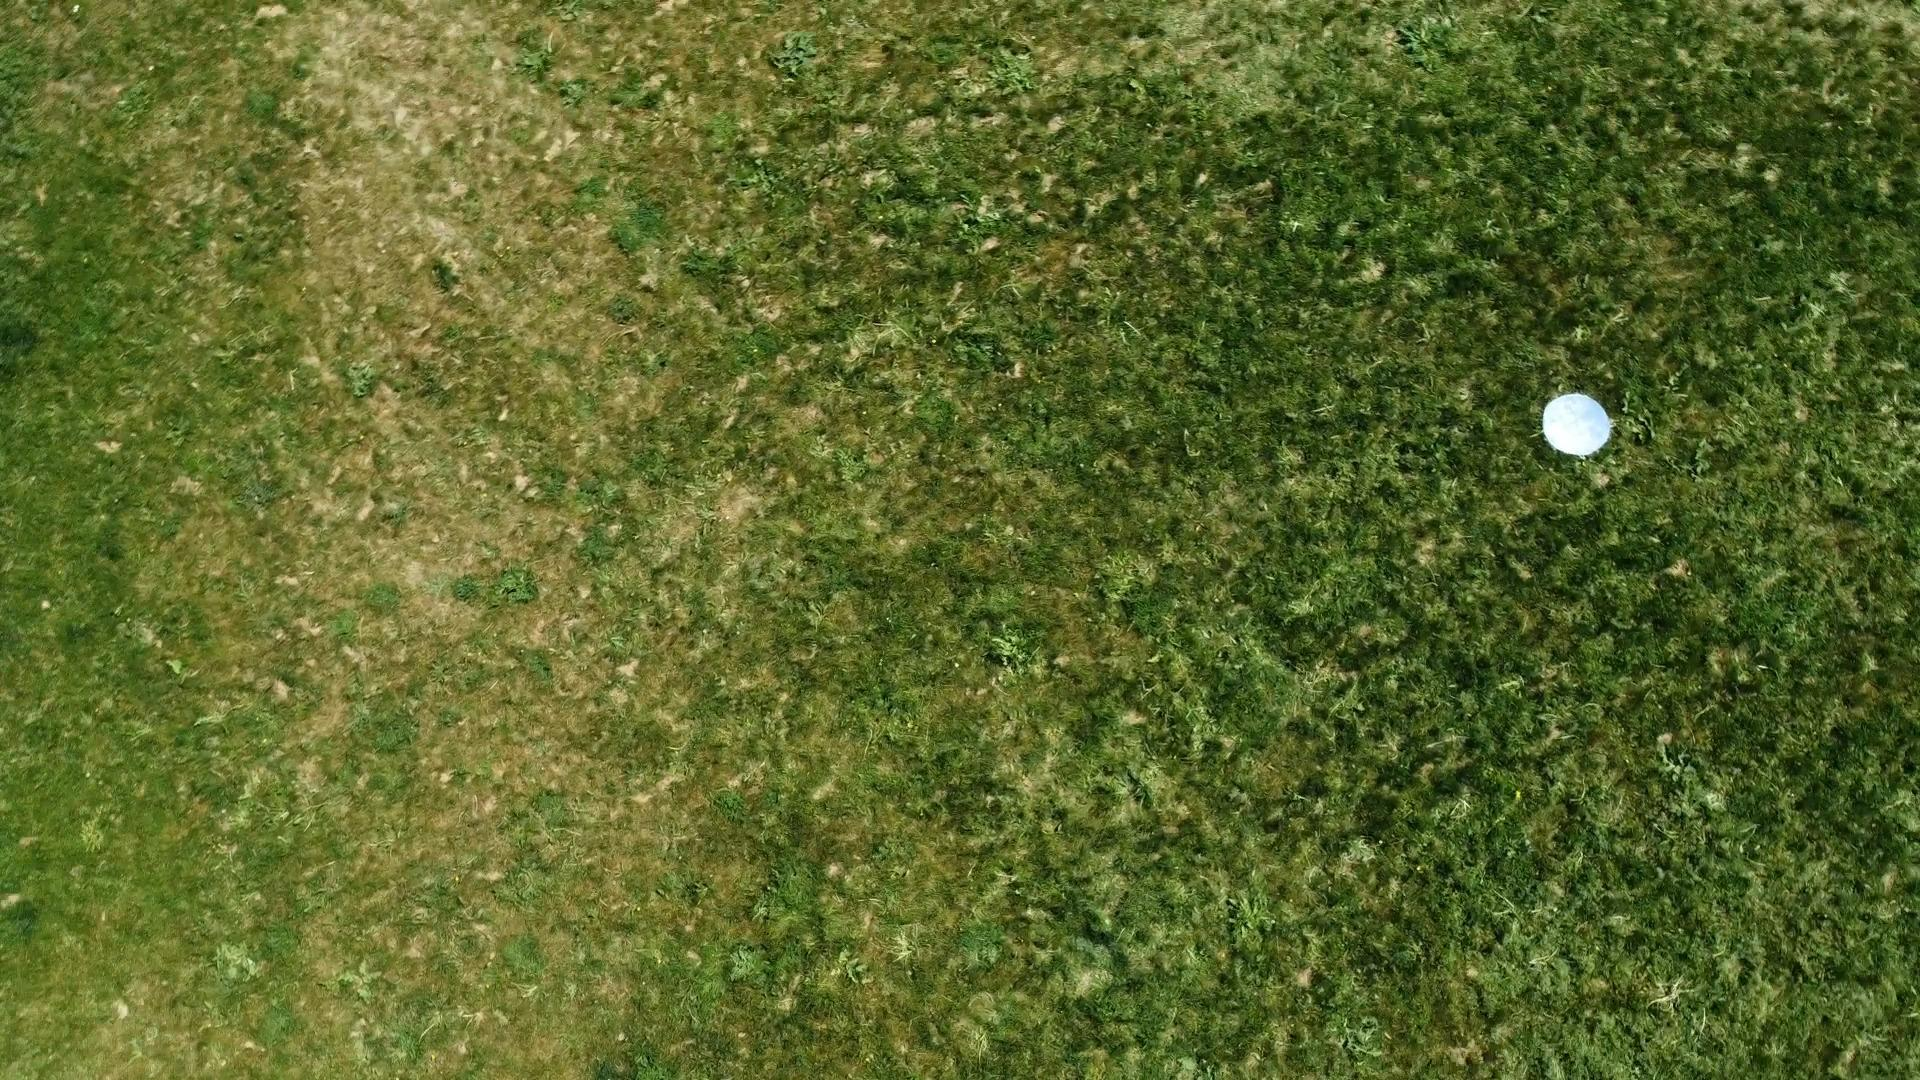Blue: (1540, 390, 1613, 458)
